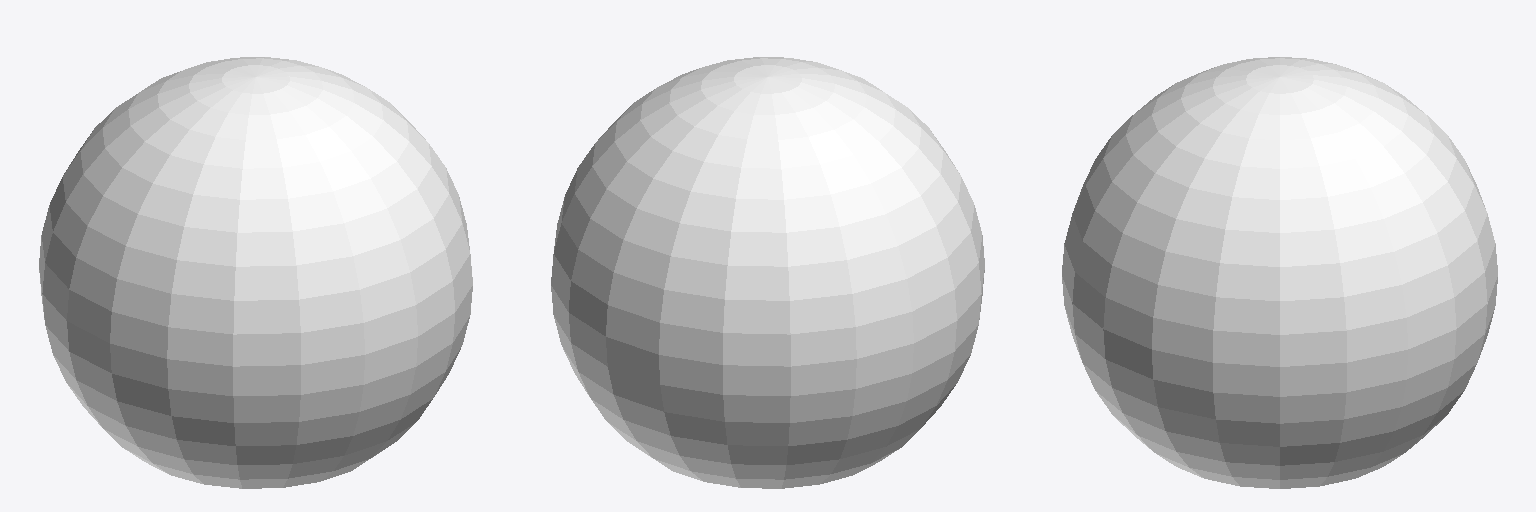
The picture shows the model from 3 angles: view 1: azimuth 30°, elevation 25°; view 2: azimuth 150°, elevation 25°; view 3: azimuth 270°, elevation 25°; orthographic projection.
Parts seen in each view (by area): view 1: polySurface47 polySurface38; view 2: polySurface47 polySurface38; view 3: polySurface47 polySurface38.
Boxes of the visible parts, x1=… form: polySurface47 polySurface38: x1=39, y1=57, x2=472, y2=488; polySurface47 polySurface38: x1=551, y1=57, x2=984, y2=488; polySurface47 polySurface38: x1=1062, y1=57, x2=1497, y2=488.
Bounding box in the file's own units: 1.6 × 1.44 × 1.6.
1 materials, 1 textured.